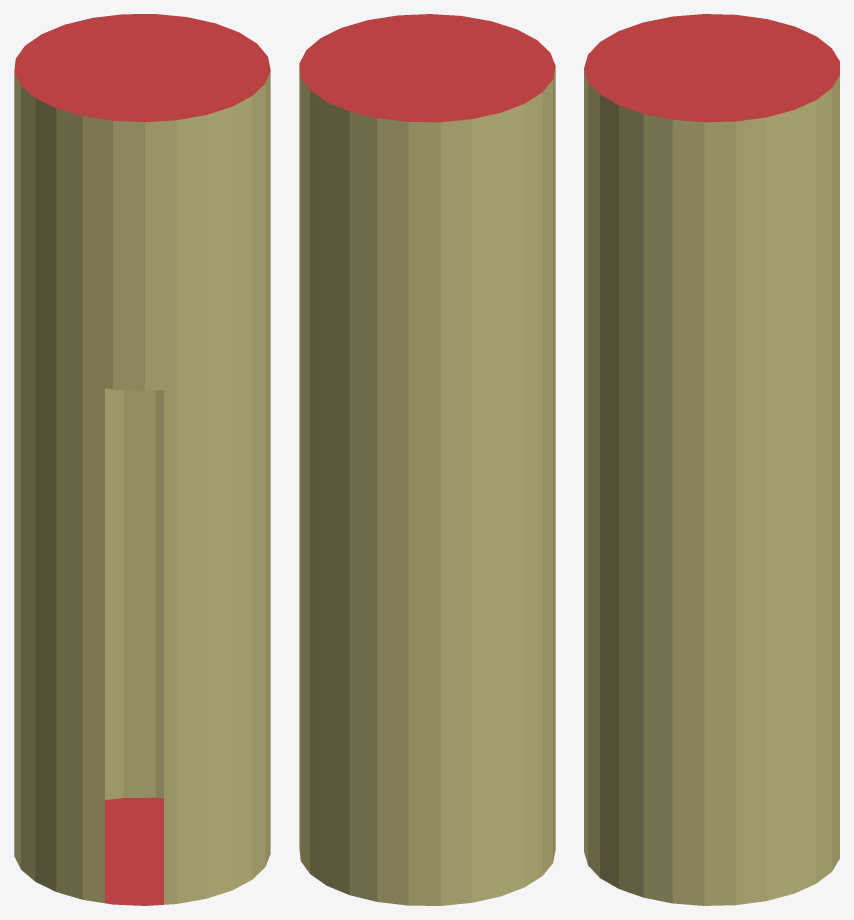
The picture shows the model from 3 angles, left to right: view 1: azimuth 30°, elevation 25°; view 2: azimuth 150°, elevation 25°; view 3: azimuth 270°, elevation 25°; orthographic projection.
Size of the model in its own units: 2.65 by 2.64 by 8.93.
